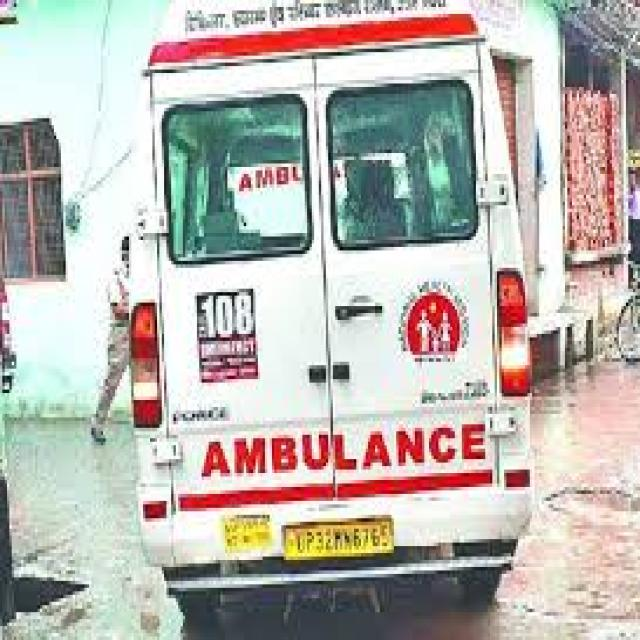Ambulance: (110, 4, 556, 636)
